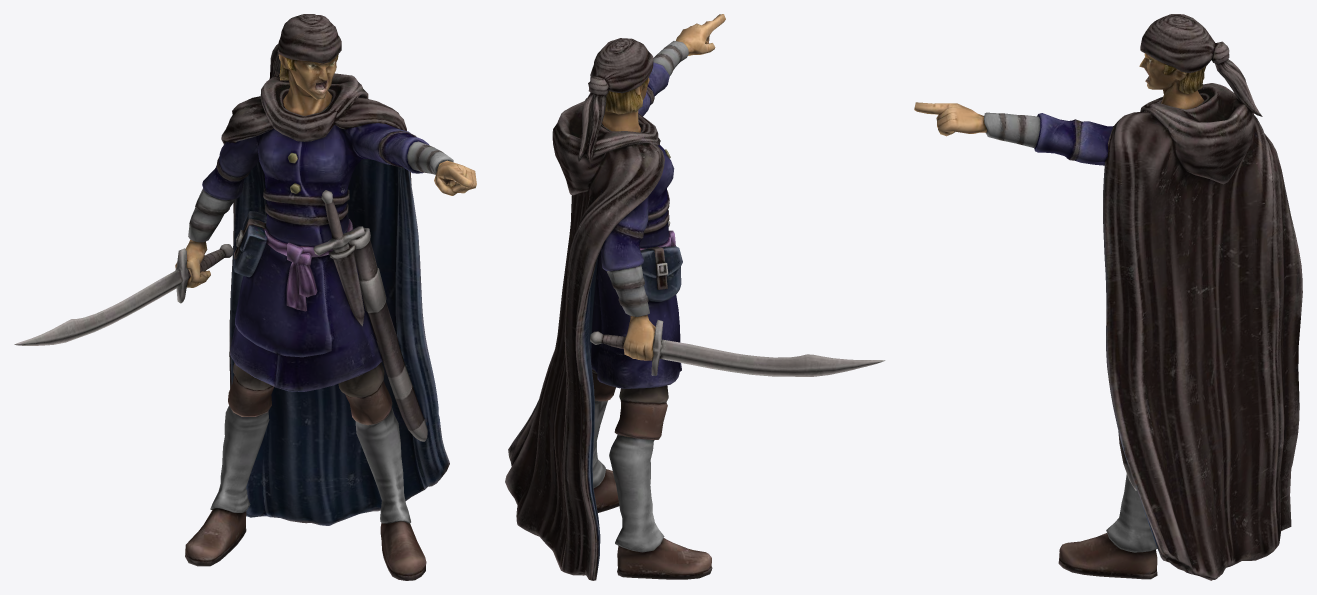
The model's file is MZ4250 - Bandit Captain Female 02.glb.
The picture shows the model from 3 angles, left to right: view 1: azimuth 30°, elevation 25°; view 2: azimuth 150°, elevation 25°; view 3: azimuth 270°, elevation 25°; orthographic projection. The views are drawn at different scales.
Visible parts, largest first — view 1: BanditCaptainFemale02; view 2: BanditCaptainFemale02; view 3: BanditCaptainFemale02.
Part boxes in pixels (bbox=[...]): BanditCaptainFemale02: bbox=[14, 14, 476, 580]; BanditCaptainFemale02: bbox=[505, 14, 885, 580]; BanditCaptainFemale02: bbox=[914, 14, 1302, 580].
Size of the model in its own units: 0.8823 by 1.08 by 0.7177.
Materials: 1 (1 with a texture image).
